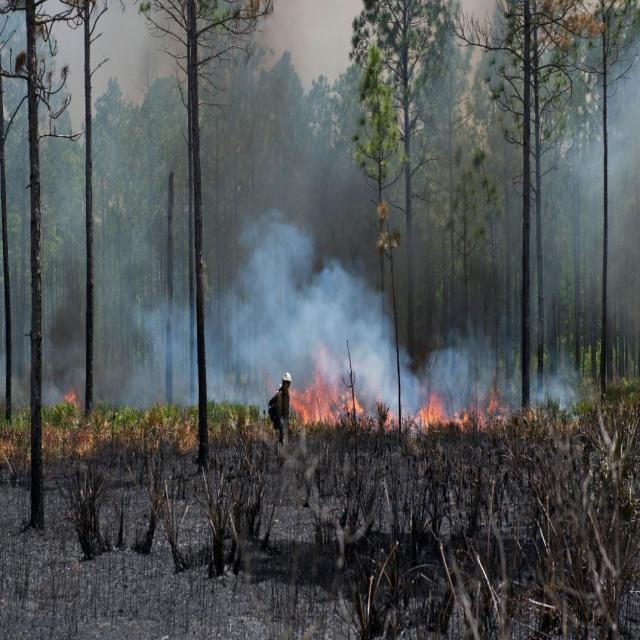Fire: (290, 354, 360, 432), (418, 389, 512, 430), (376, 402, 398, 430), (62, 387, 78, 406)
Smoke: (226, 232, 384, 350)
